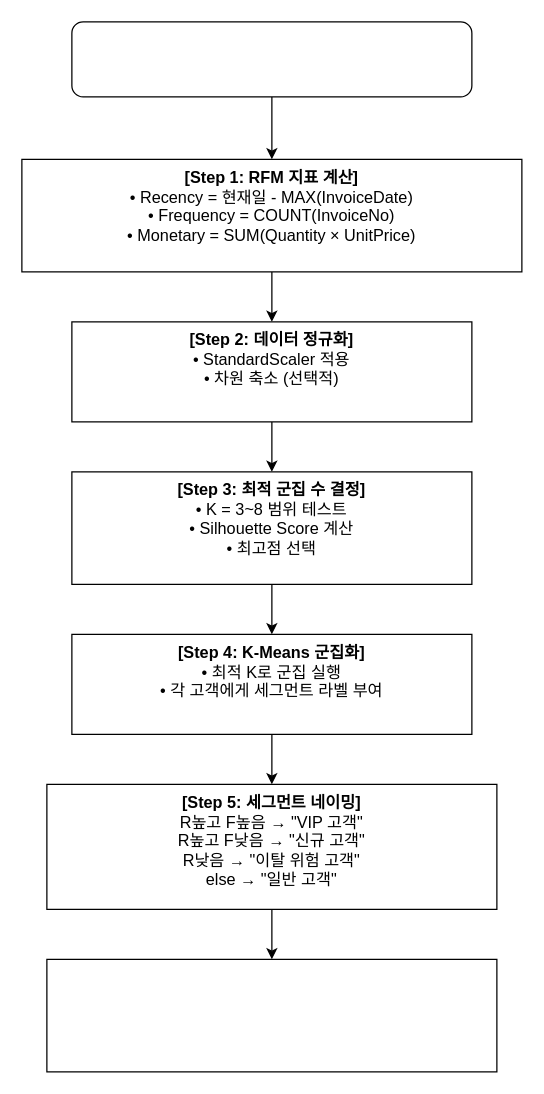
Image size: 544x1094. Some labels were removed from this diagram. Each missing label, with the centre of its shape:
"[Step 6: 시각화] • 3D Scatter Plot (R-F-M 공간) • 군집별 평균 비교 차트 • 세그먼트 분포 Pie Chart" belongs at point (271, 1015).
"[거래 데이터] CustomerID | InvoiceDate | Quantity | UnitPrice" belongs at point (271, 59).
